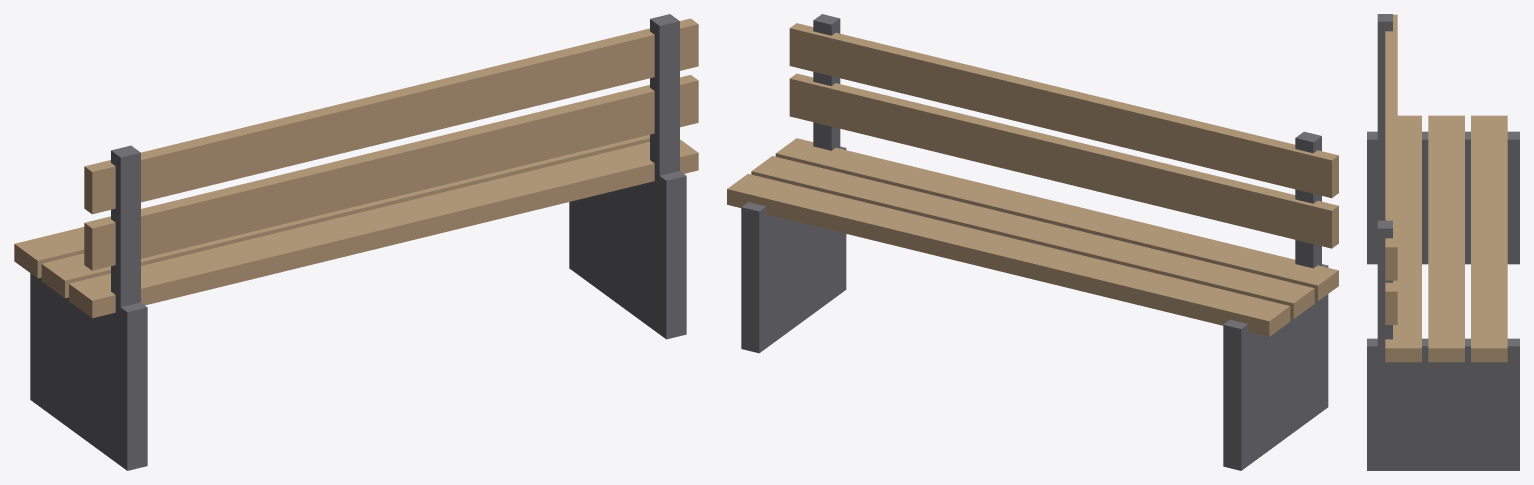
File: Bench.fbx
3 views of the same model, side by side, from view 1: azimuth 30°, elevation 25°; view 2: azimuth 150°, elevation 25°; view 3: azimuth 270°, elevation 25° (orthographic). The views are drawn at different scales.
Visible parts, largest first — view 1: Bench_Mesh; view 2: Bench_Mesh; view 3: Bench_Mesh.
Boxes of the visible parts, box(x1,y1,x2,y2) form: Bench_Mesh: box(14, 14, 698, 470); Bench_Mesh: box(727, 14, 1338, 470); Bench_Mesh: box(1367, 14, 1519, 470).
Bounding box in the file's own units: 1.8 × 0.5 × 0.875.
